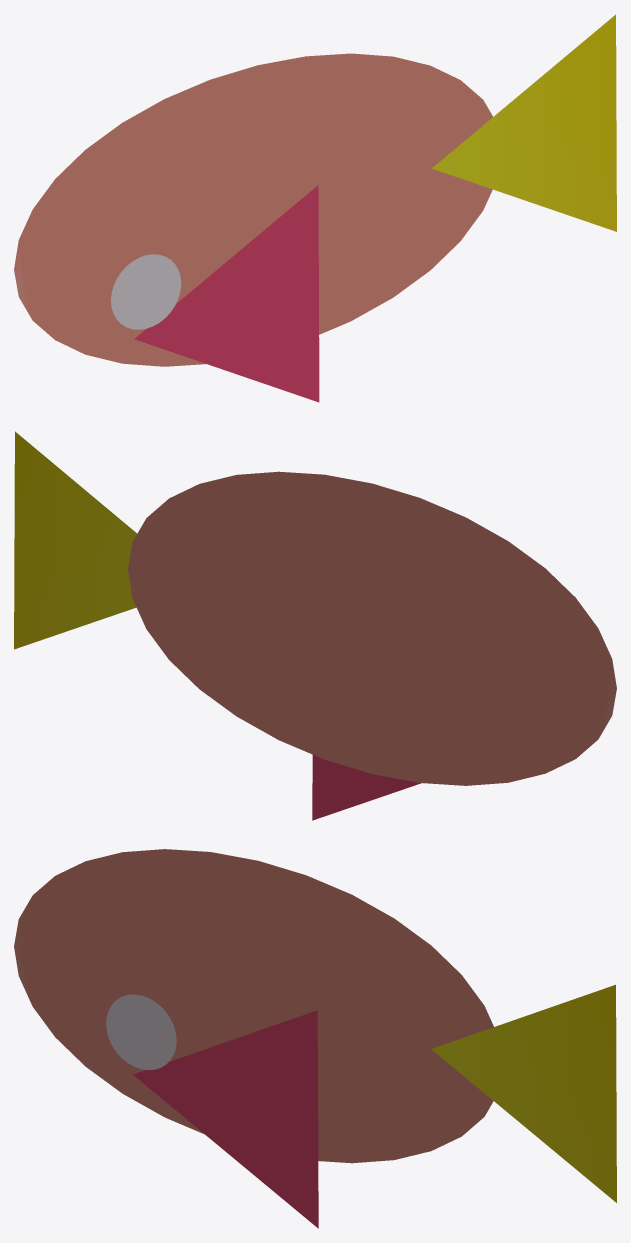
File: salmon.obj
3 renders of one model, top to bottom at view 1: azimuth 30°, elevation 25°; view 2: azimuth 150°, elevation 25°; view 3: azimuth 330°, elevation 25°, orthographic.
Size of the model in its own units: 0.8371 by 0.4671 by 0.00609.
